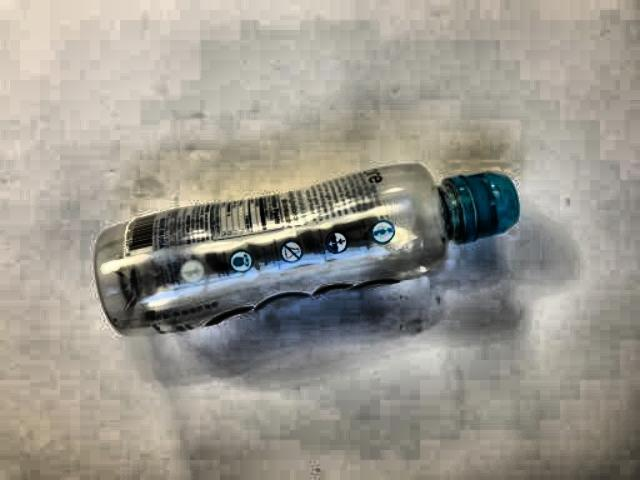Bottles: (67, 156, 541, 351)
